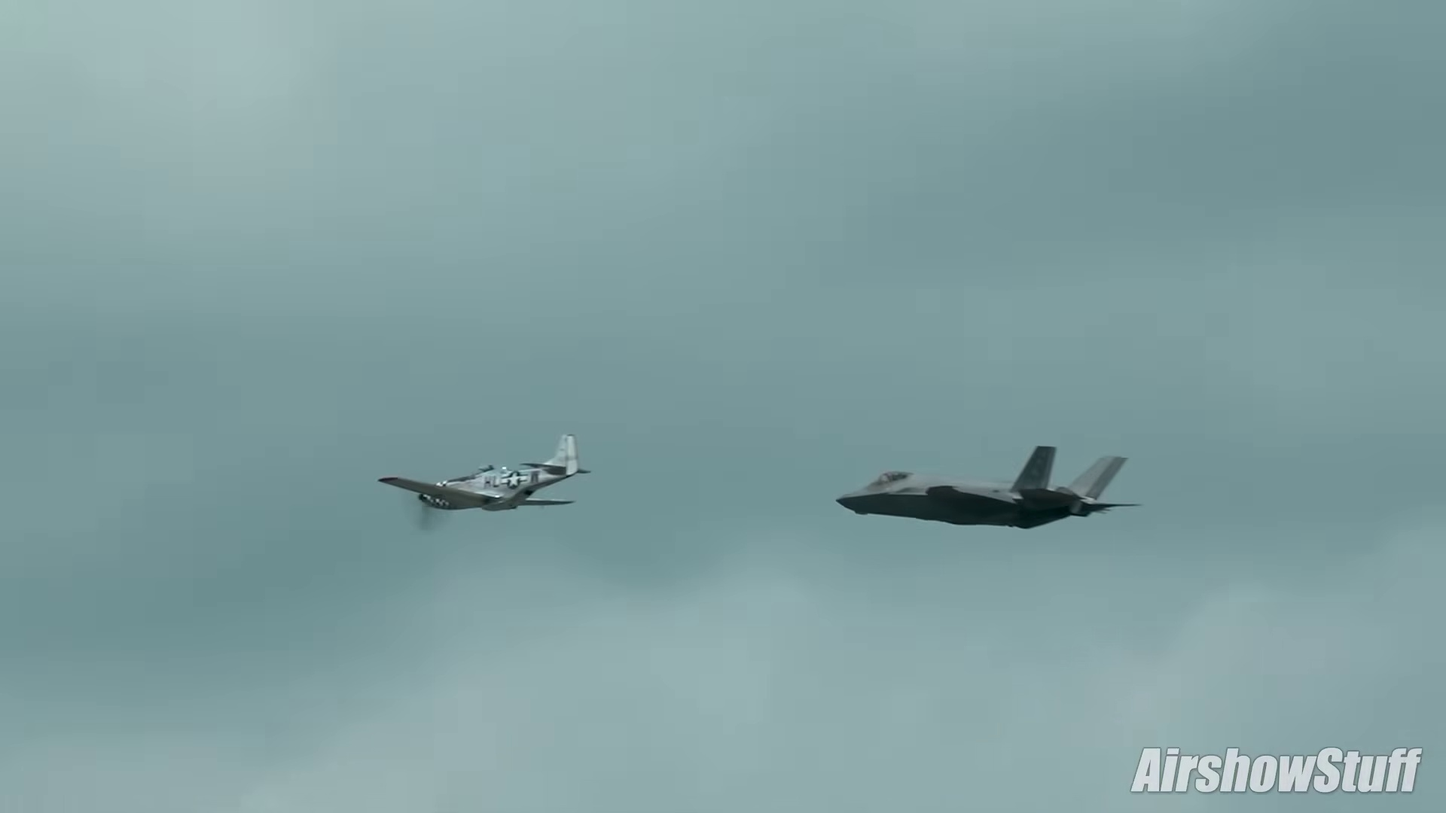F35: (827, 435, 1145, 544)
